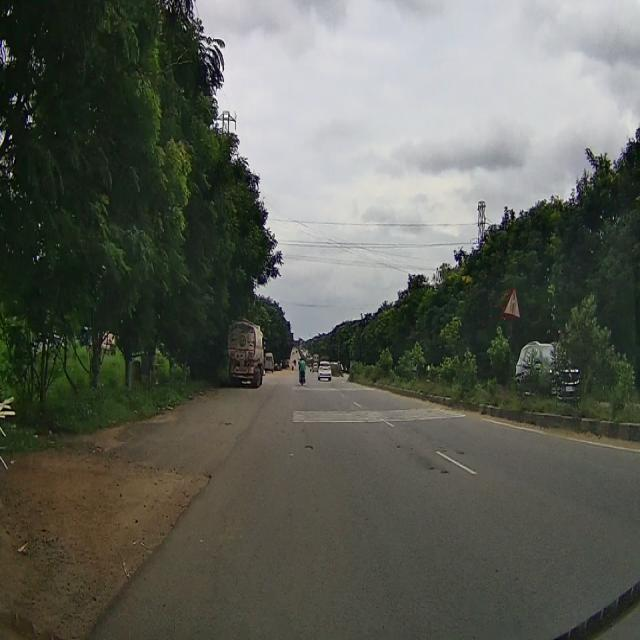gap-in-median: (504, 287, 519, 314)
